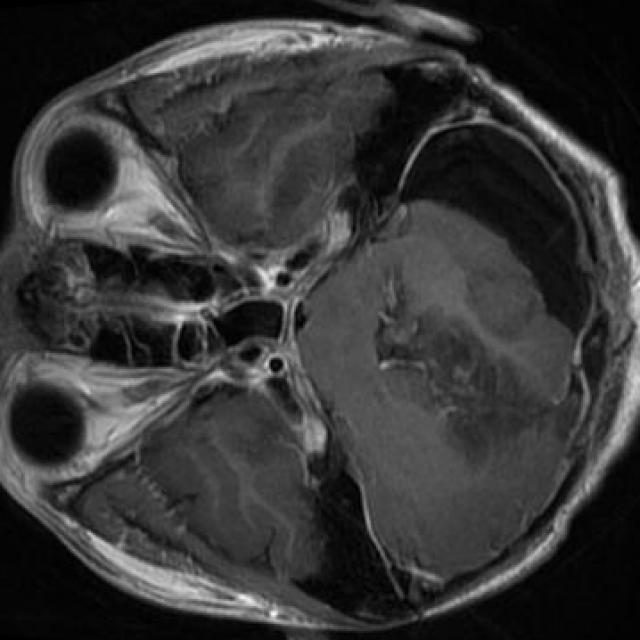glioma: (374, 266, 554, 464)
